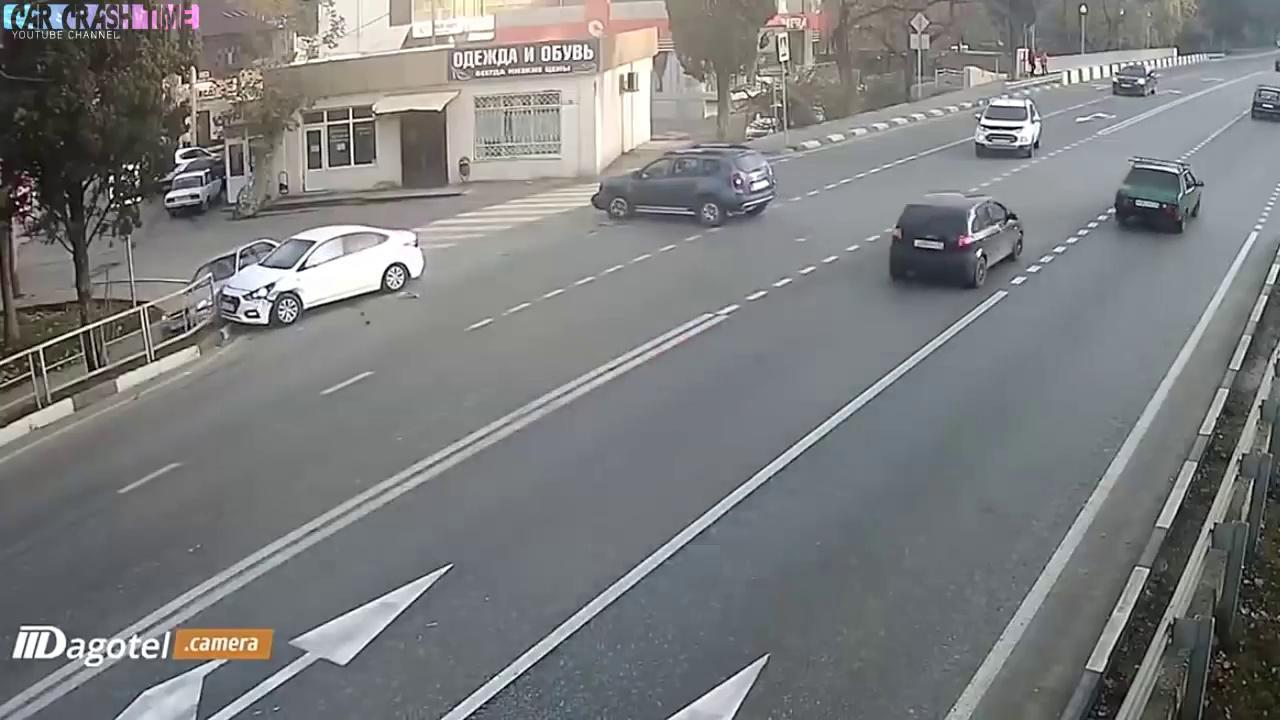car-accident: (145, 224, 426, 330)
